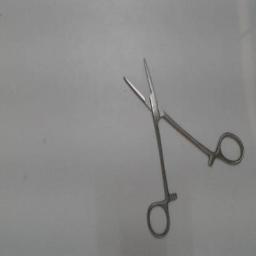Mayo Needle Holder: (118, 42, 246, 240)
